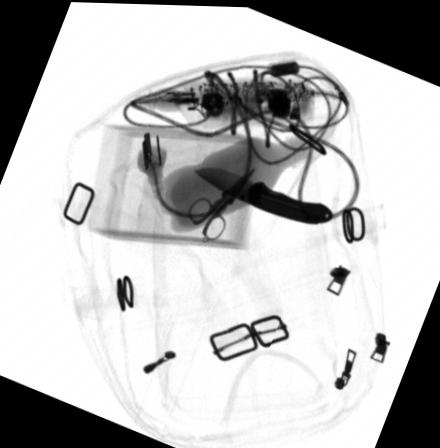Knife: (193, 164, 334, 222)
Scissors: (190, 167, 256, 240)
